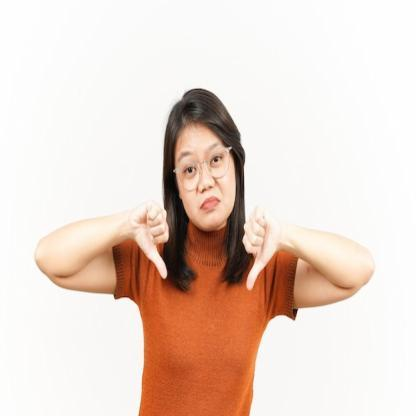thumb_down: (127, 195, 172, 281), (240, 202, 280, 292)
